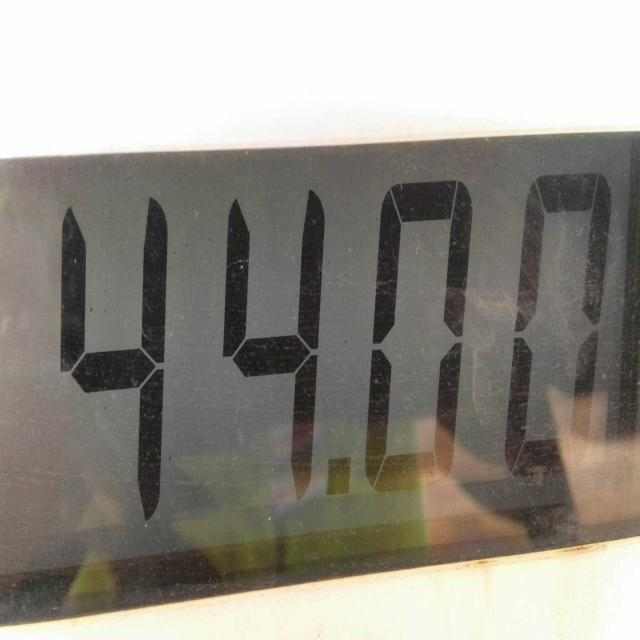.: (317, 433, 357, 507)
0: (349, 176, 497, 505), (500, 162, 621, 512)
4: (44, 197, 186, 537), (208, 190, 326, 496)
